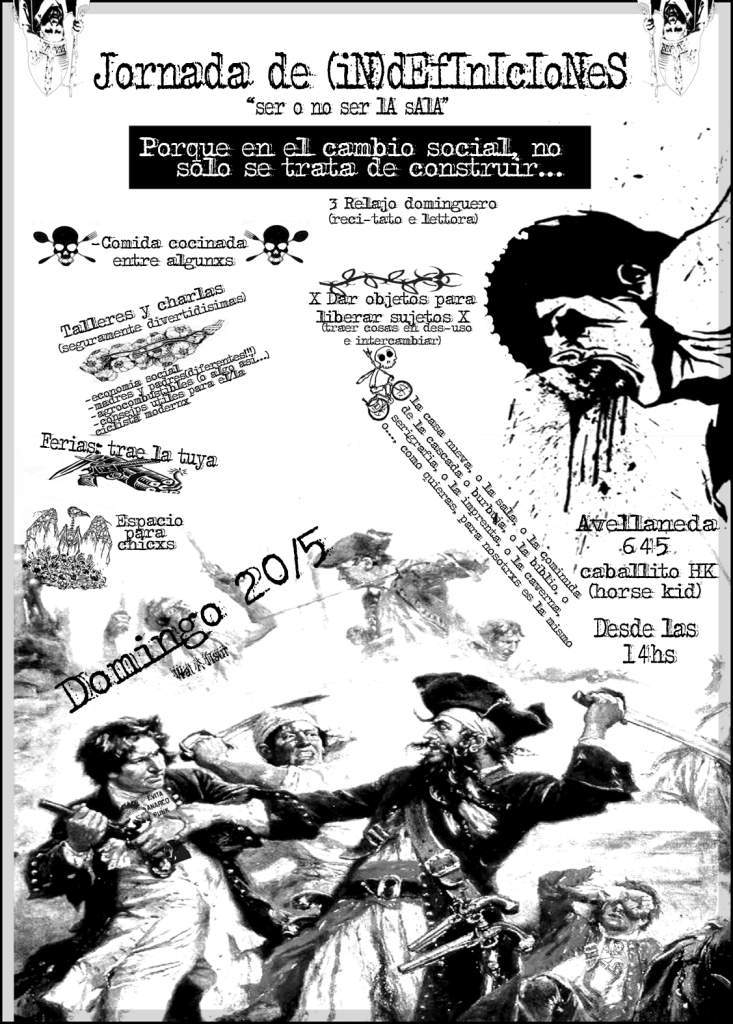Person: (14, 0, 730, 1020)
